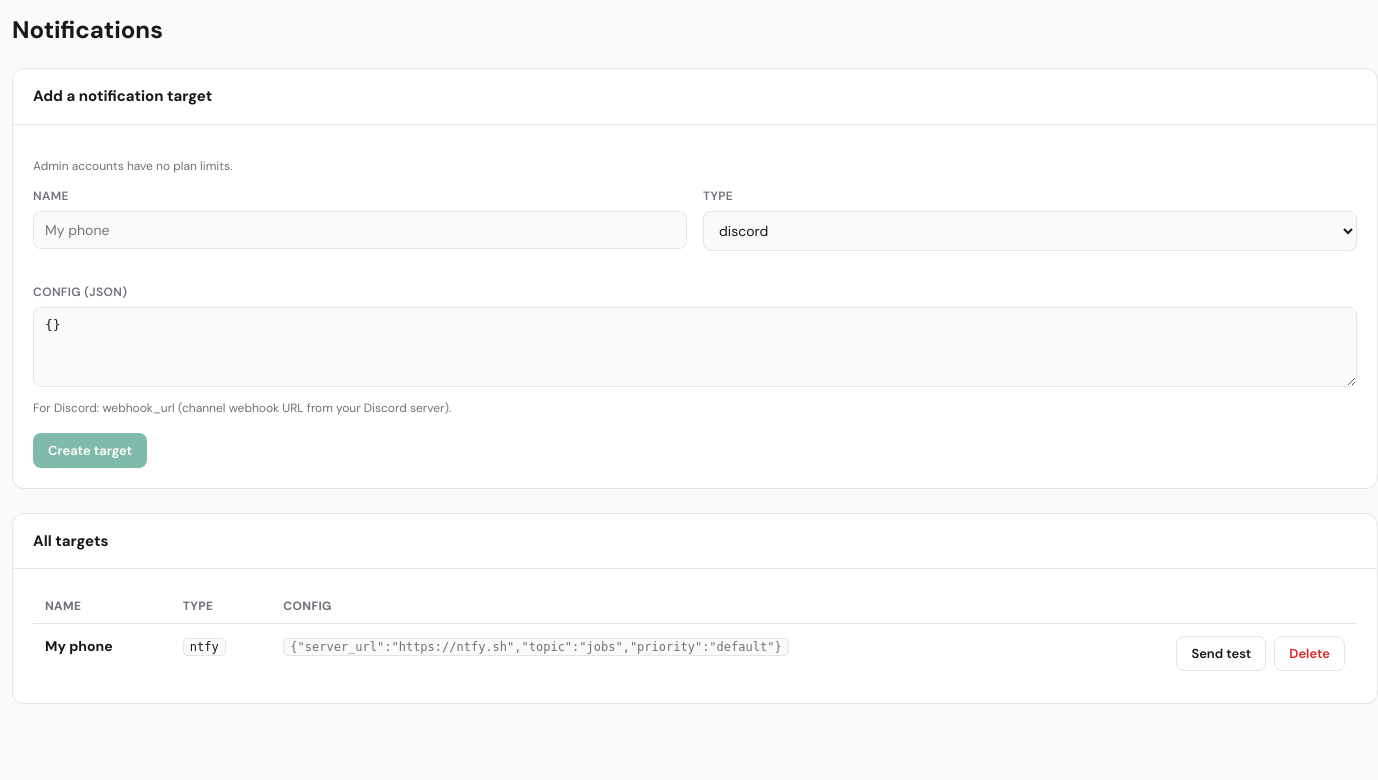
Test: TargetsPage branch coverage › reports the returned error when a test is not sent
Expected: the text "My phone" is shown, [45,637,113,655]
Click the button "Send test" at (1221,654), box [1176,636,1266,671]
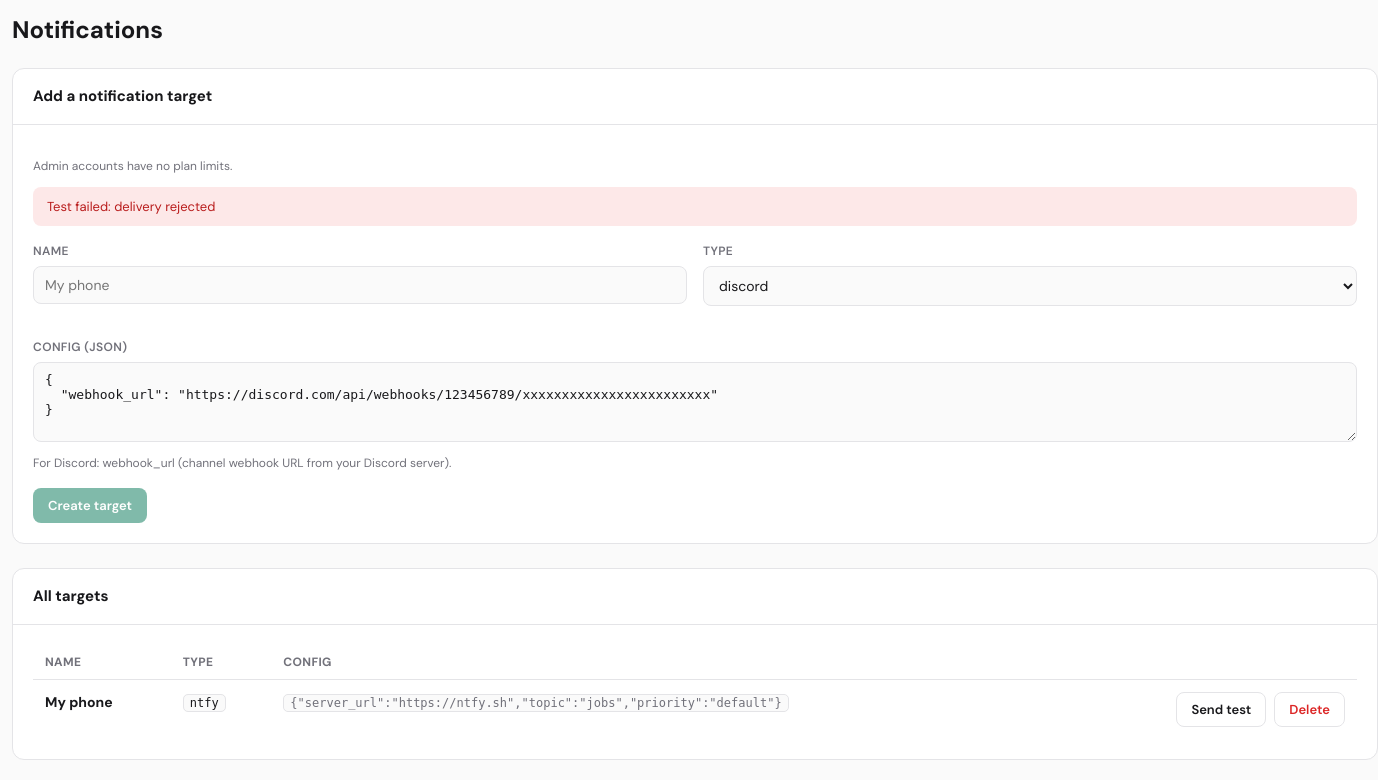
Result: the text "Test failed: delivery rejected" is shown at [33,186,1357,226]
